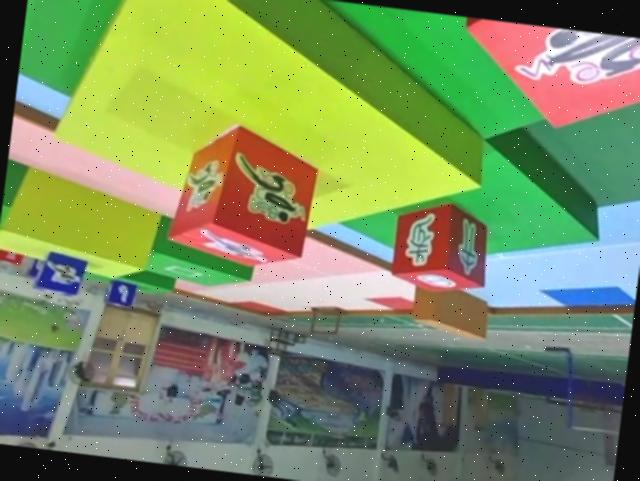R1: (162, 117, 326, 278), (447, 15, 640, 147)
R2 Fake: (385, 196, 497, 301)
